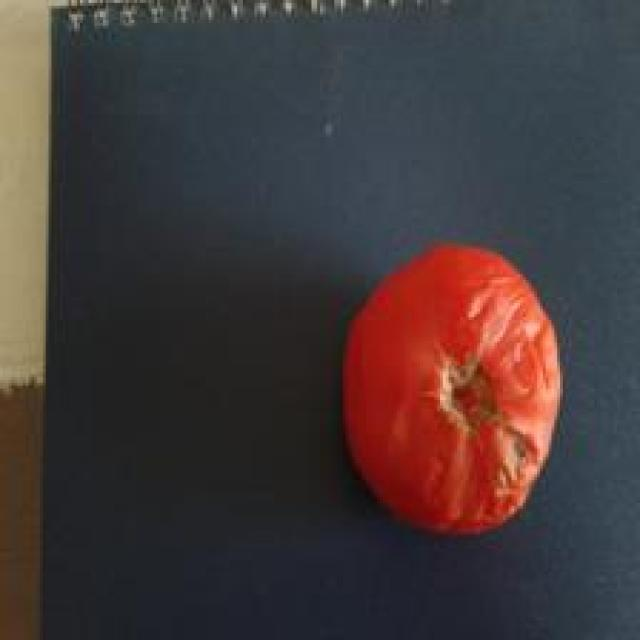overripe: (334, 240, 571, 540)
